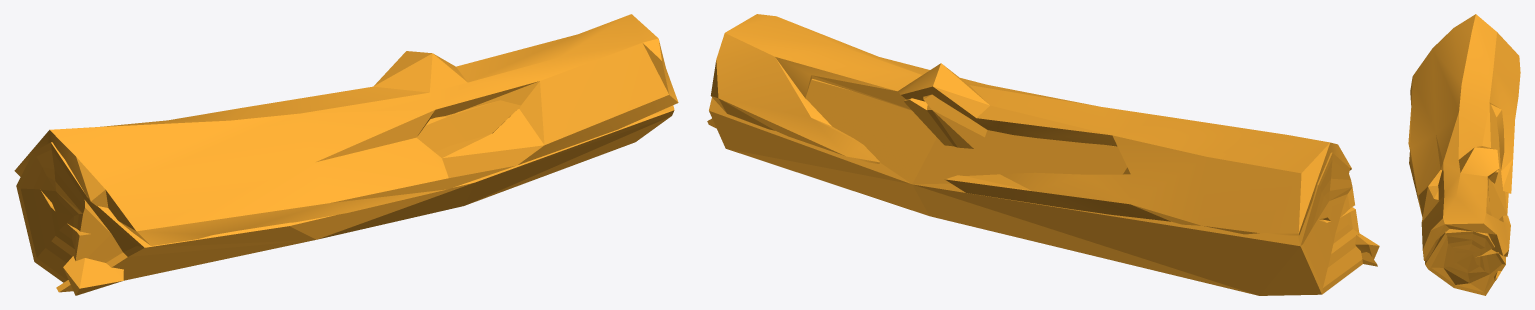
The model's file is SM_Tree_Oak_Log_A_Snow.fbx.
3 renders of one model, left to right at view 1: azimuth 30°, elevation 25°; view 2: azimuth 150°, elevation 25°; view 3: azimuth 270°, elevation 25°, orthographic. The views are drawn at different scales.
Visible parts, largest first — view 1: tree-oak-log-a-snow; view 2: tree-oak-log-a-snow; view 3: tree-oak-log-a-snow.
Part boxes in pixels (x1,y1,x2,y2): tree-oak-log-a-snow: (14,14,678,295); tree-oak-log-a-snow: (707,14,1379,295); tree-oak-log-a-snow: (1408,14,1520,295).
Size of the model in its own units: 2.99 by 0.7458 by 0.7191.
